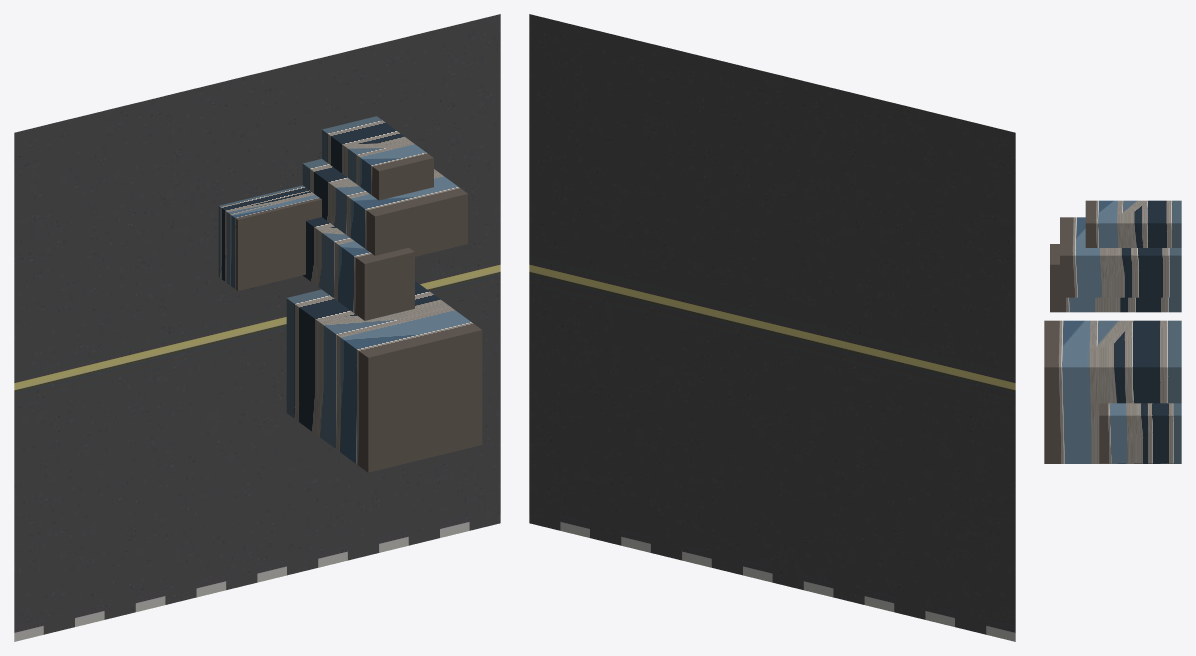
3 renders of one model, left to right at view 1: azimuth 30°, elevation 25°; view 2: azimuth 150°, elevation 25°; view 3: azimuth 270°, elevation 25°, orthographic. The views are drawn at different scales.
Bounding box in the file's own units: 119 × 119 × 34.66.
2 materials, 2 textured.
